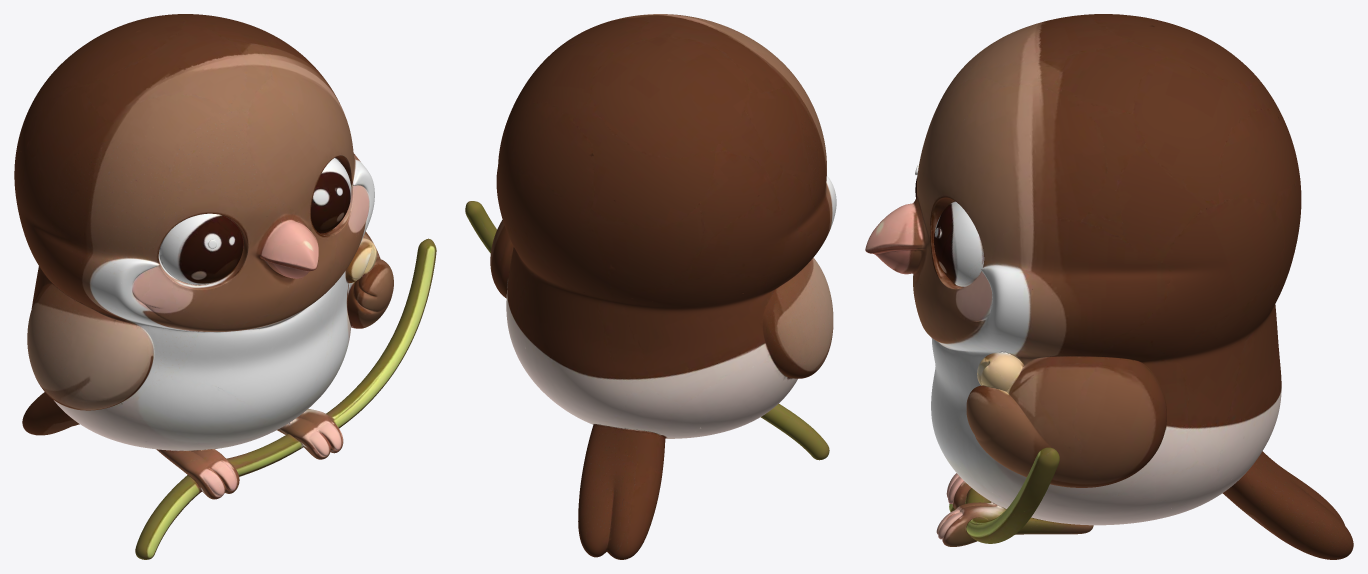
The model's file is white-rumped-munia.glb.
The picture shows the model from 3 angles, left to right: view 1: azimuth 30°, elevation 25°; view 2: azimuth 150°, elevation 25°; view 3: azimuth 270°, elevation 25°; orthographic projection. The views are drawn at different scales.
Parts seen in each view (by area): view 1: node_0; view 2: node_0; view 3: node_0.
Boxes of the visible parts, x1,y1,x2,y2 form: node_0: (14, 14, 436, 559); node_0: (465, 14, 836, 559); node_0: (865, 14, 1353, 559).
Size of the model in its own units: 0.7819 by 0.9046 by 0.7401.
1 material, 1 textured.
